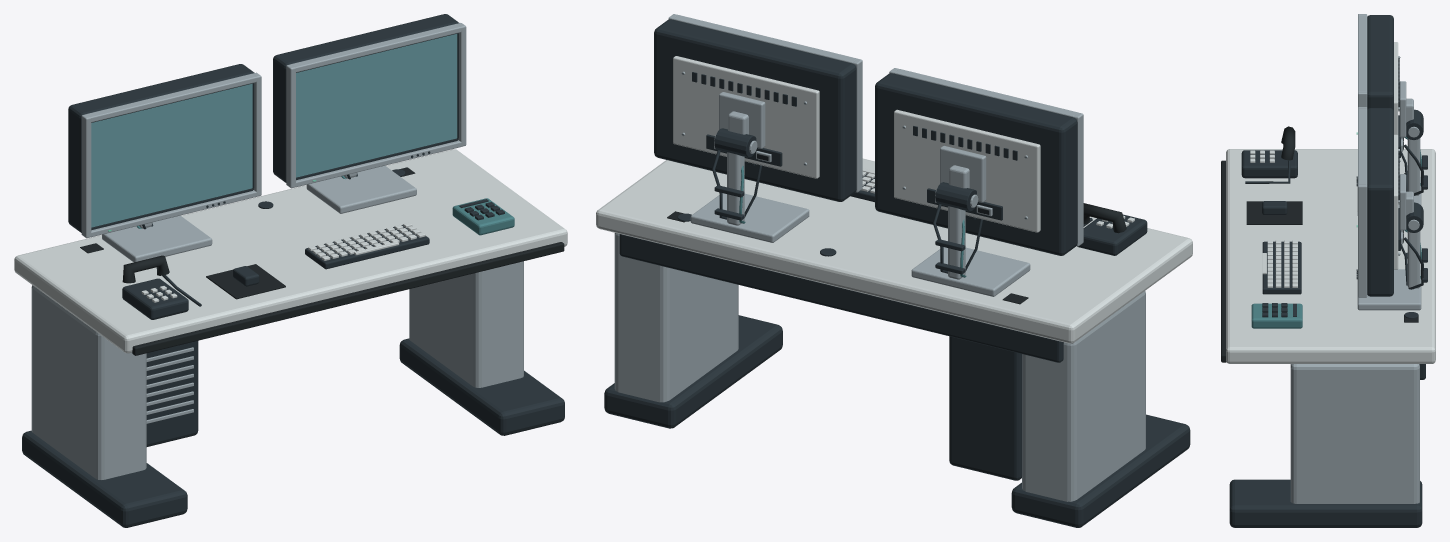
Rendered from SF_SC_OperatorDesk_B.fbx.
3 renders of one model, left to right at view 1: azimuth 30°, elevation 25°; view 2: azimuth 150°, elevation 25°; view 3: azimuth 270°, elevation 25°, orthographic. The views are drawn at different scales.
Parts seen in each view (by area): view 1: SF_SC_OperatorDesk_B; view 2: SF_SC_OperatorDesk_B; view 3: SF_SC_OperatorDesk_B.
Part boxes in pixels (x1=…): SF_SC_OperatorDesk_B: x1=14, y1=14, x2=567, y2=527; SF_SC_OperatorDesk_B: x1=596, y1=14, x2=1192, y2=527; SF_SC_OperatorDesk_B: x1=1221, y1=14, x2=1435, y2=527.
Size of the model in its own units: 195 by 149 by 87.95.
